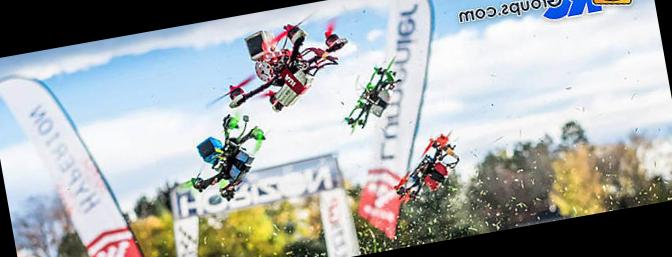drone: (207, 0, 368, 125), (166, 109, 284, 223), (377, 116, 472, 214), (327, 46, 421, 142)
